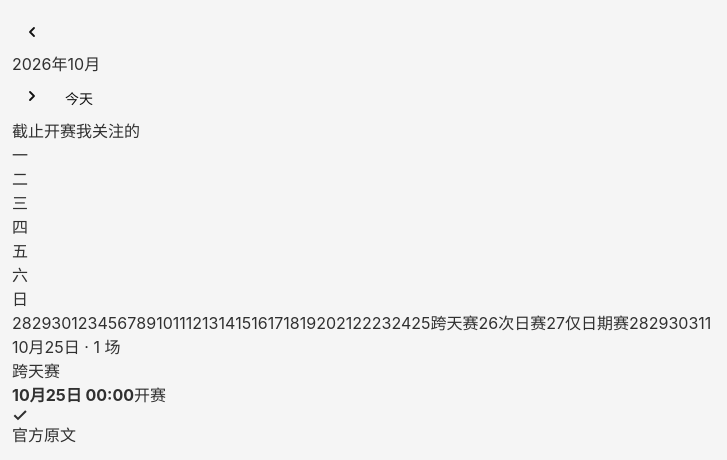
整月视图在手机有点阵，day节点不会显示虚构钟点
Click the button with aria-label "10月27日，1 场": point(588, 322) [546, 310, 629, 334]
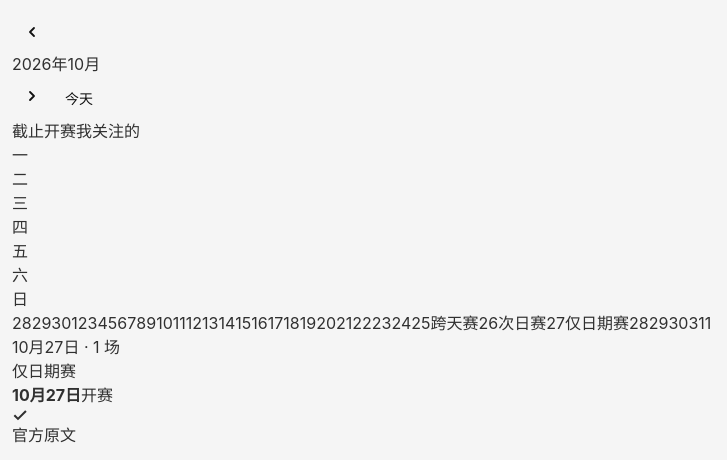
Expected: the link "仅日期赛" is shown, [12, 360, 76, 380]
Expected: the text "10月27日" is shown, [12, 384, 81, 404]
